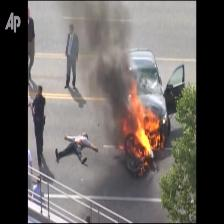fire: (132, 107, 158, 155)
smoke: (90, 2, 133, 103)
